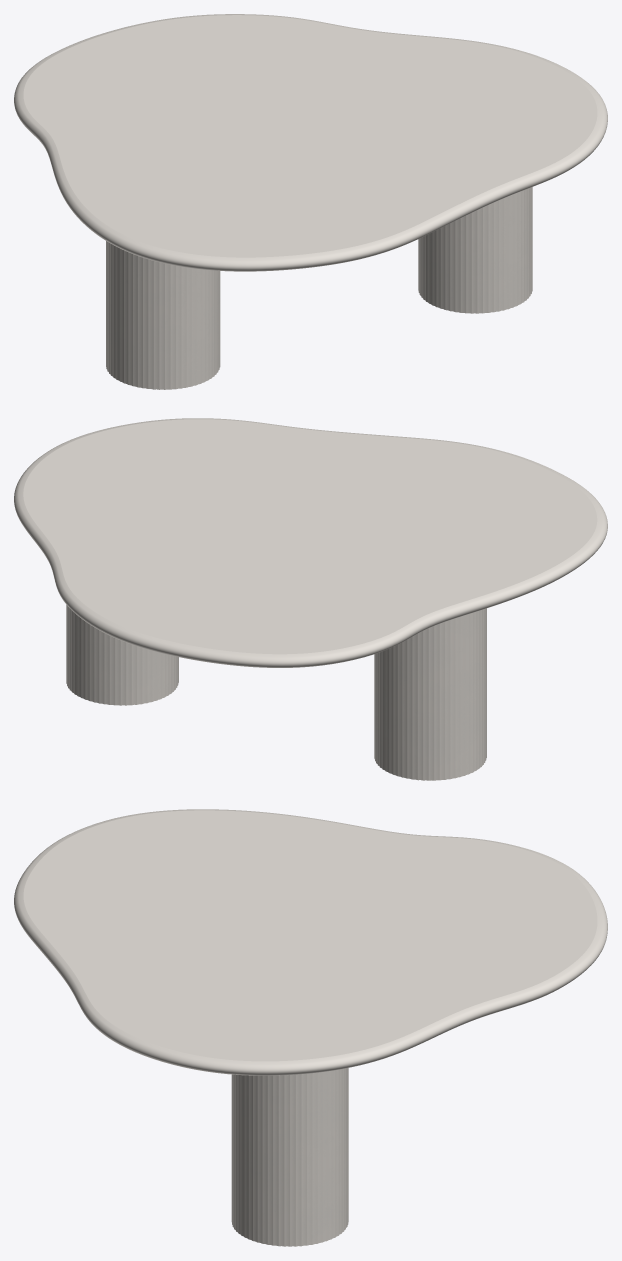
File: pearlwhite_topone_round_ripplesecond.glb
3 renders of one model, top to bottom at view 1: azimuth 30°, elevation 25°; view 2: azimuth 150°, elevation 25°; view 3: azimuth 270°, elevation 25°, orthographic. The views are drawn at different scales.
Parts seen in each view (by area): view 1: round_topone, ripplesecond; view 2: round_topone, ripplesecond; view 3: round_topone, ripplesecond.
Part boxes in pixels (x1,y1,x2,y2): round_topone: [14, 14, 607, 271]; ripplesecond: [106, 187, 532, 389]; round_topone: [14, 418, 607, 667]; ripplesecond: [66, 605, 486, 780]; round_topone: [14, 809, 607, 1075]; ripplesecond: [231, 1068, 348, 1246].
Bounding box in the file's own units: 6.83 × 2.5 × 6.6.
1 material, 1 textured.
